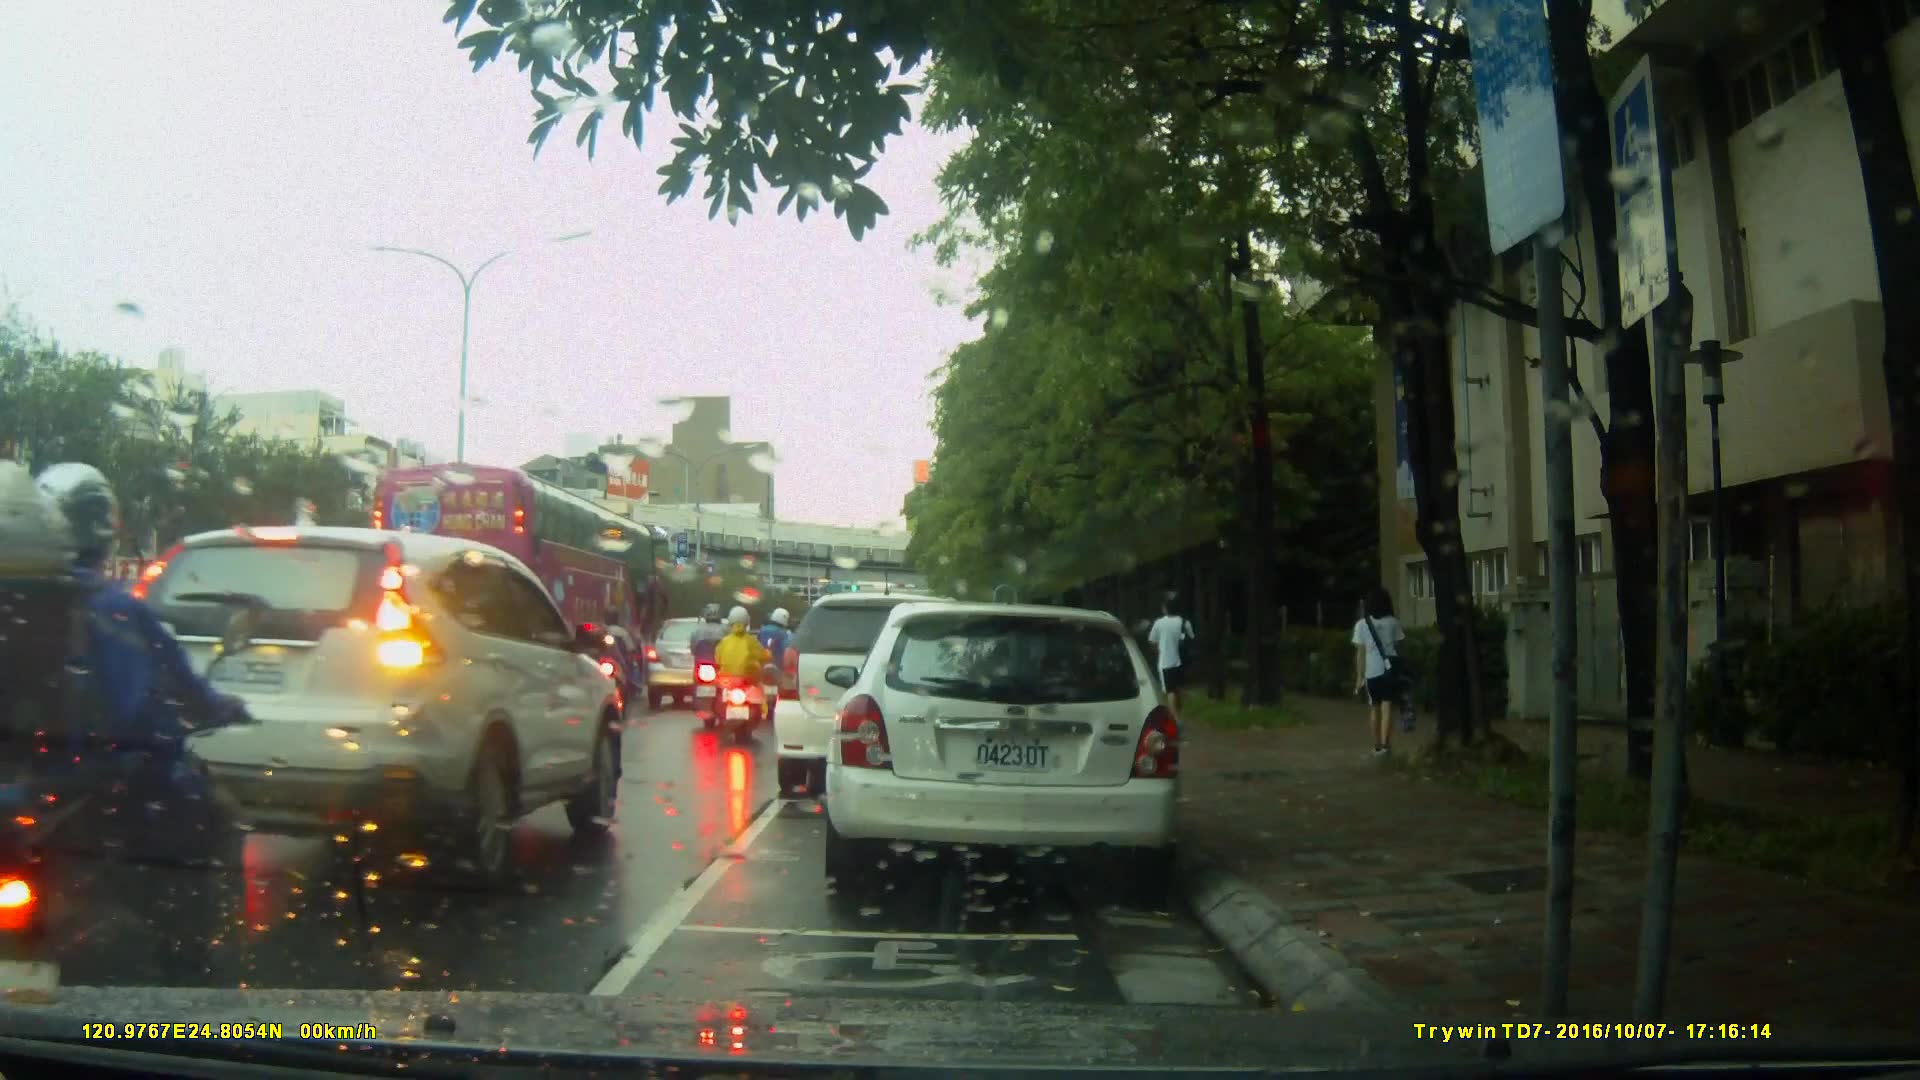pedestrian: (1336, 582, 1420, 778), (1147, 589, 1197, 727)
rider: (1, 449, 263, 1057), (710, 604, 764, 747), (582, 605, 648, 709), (683, 597, 736, 724), (755, 605, 802, 713)
vehicle: (98, 522, 624, 906), (835, 594, 1194, 898), (358, 464, 670, 687), (776, 590, 1026, 784), (646, 616, 760, 705)
